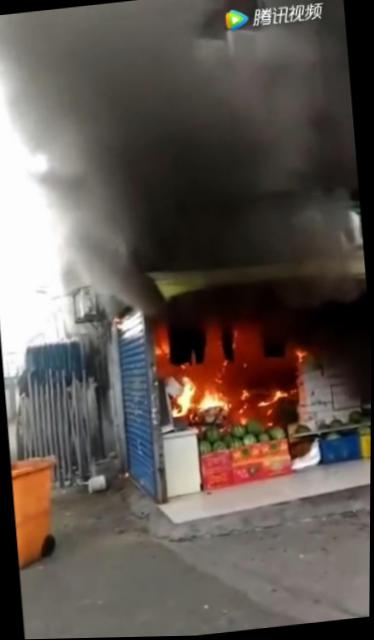fire: (196, 390, 230, 413), (174, 378, 193, 417)
